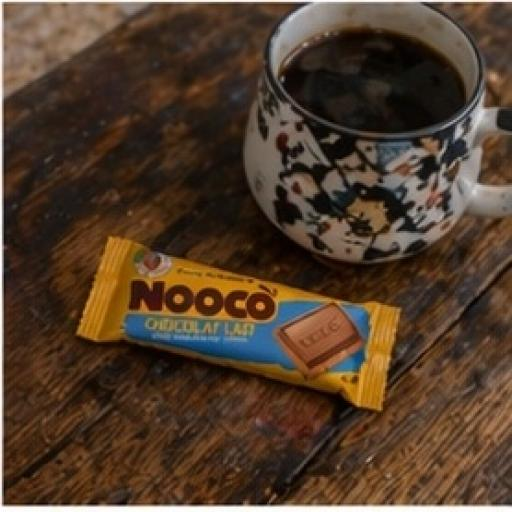biscuit-detection: (41, 180, 465, 433)
